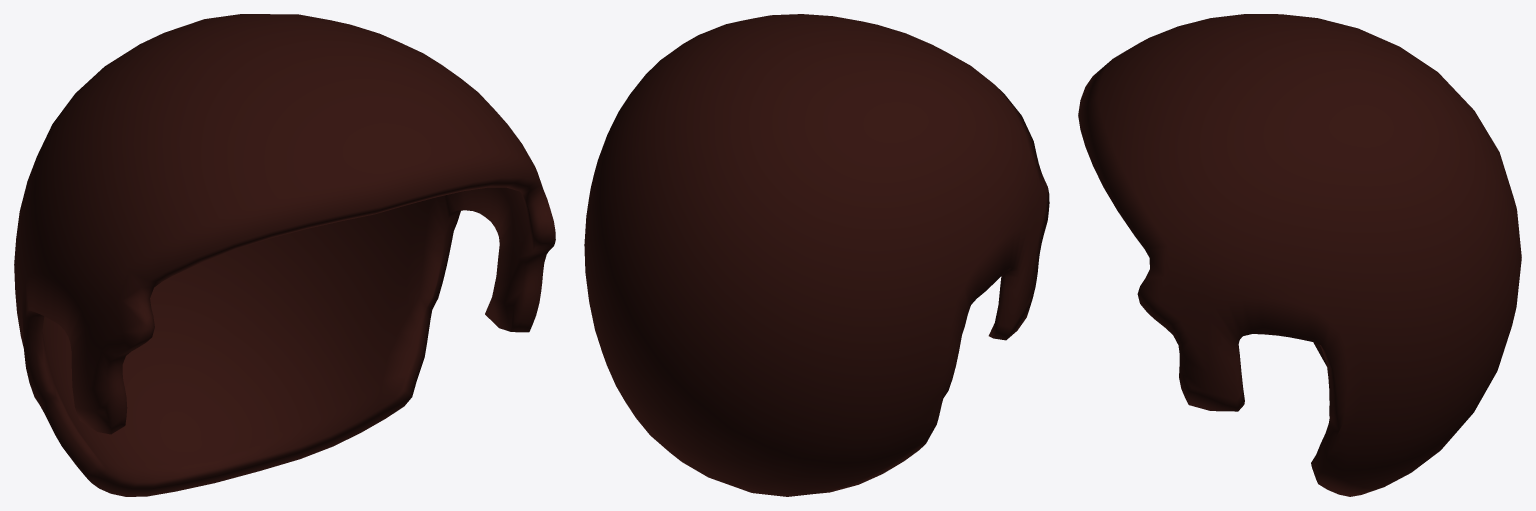
The model's file is buzzzi.fbx.
3 views of the same model, side by side, from view 1: azimuth 30°, elevation 25°; view 2: azimuth 150°, elevation 25°; view 3: azimuth 270°, elevation 25° (orthographic). The views are drawn at different scales.
Parts seen in each view (by area): view 1: buzz höher; view 2: buzz höher; view 3: buzz höher.
Boxes of the visible parts, <box> form: buzz höher: <box>14,14,555,496</box>; buzz höher: <box>584,14,1049,496</box>; buzz höher: <box>1078,14,1521,496</box>.
Bounding box in the file's own units: 123 × 125 × 117.
